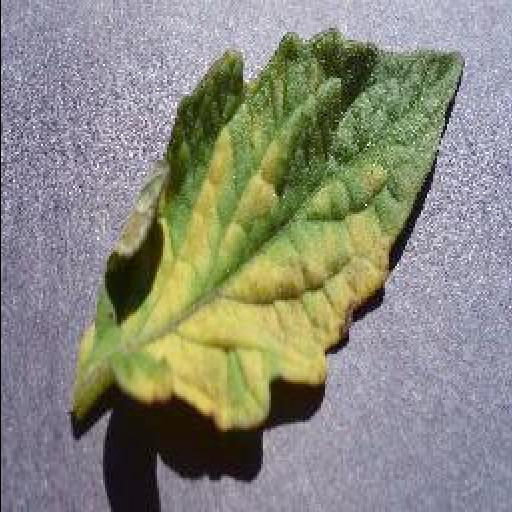disease_tomato: (68, 28, 466, 430)
